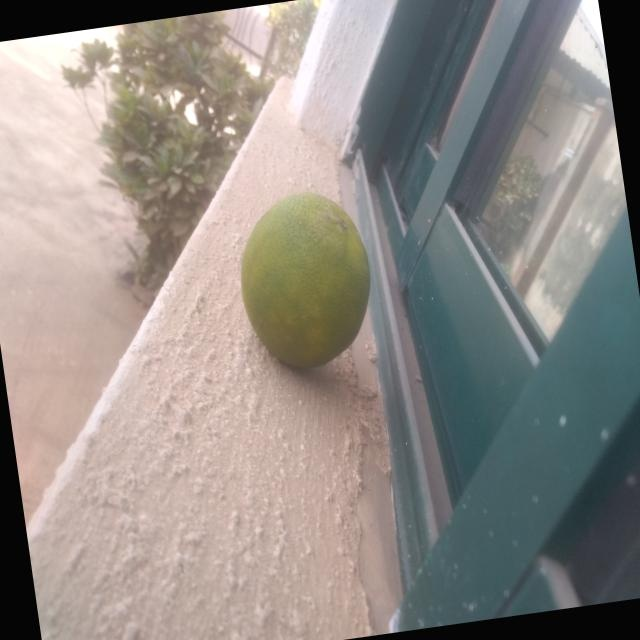agrume: (208, 168, 412, 416)
